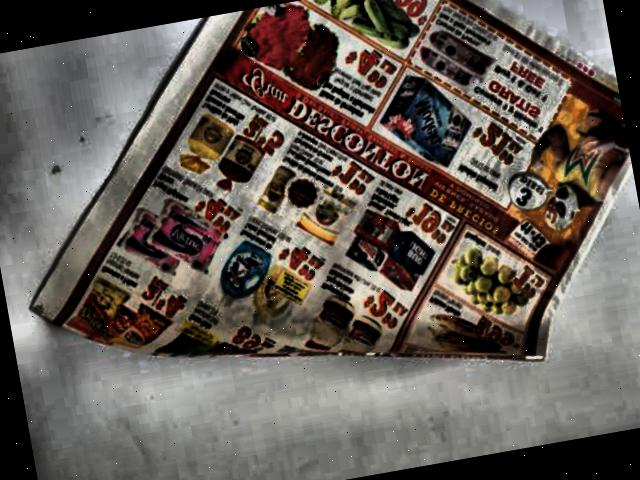Paper: (0, 0, 640, 451)
